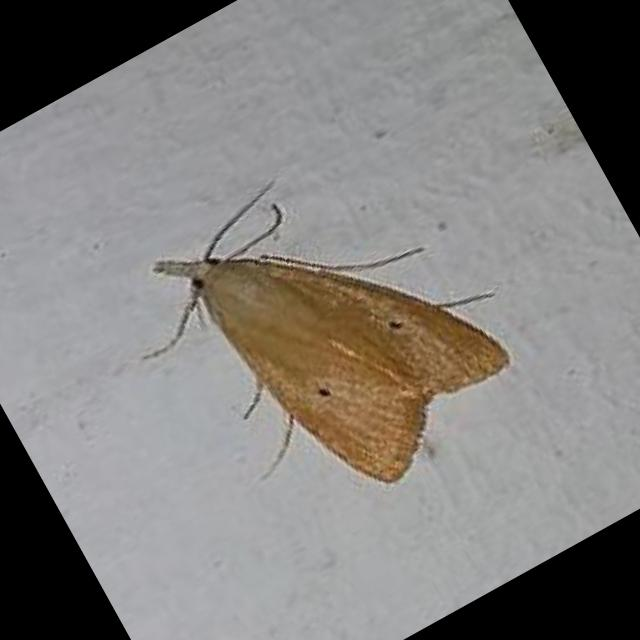stem-borer: (108, 106, 555, 558)
